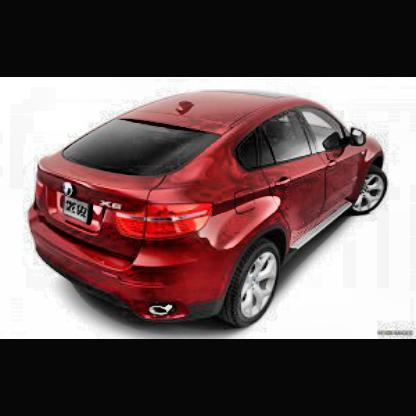BMW X6 SUV 2012: (24, 89, 394, 337)
